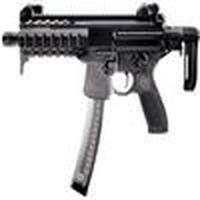gun: (3, 7, 200, 133)
